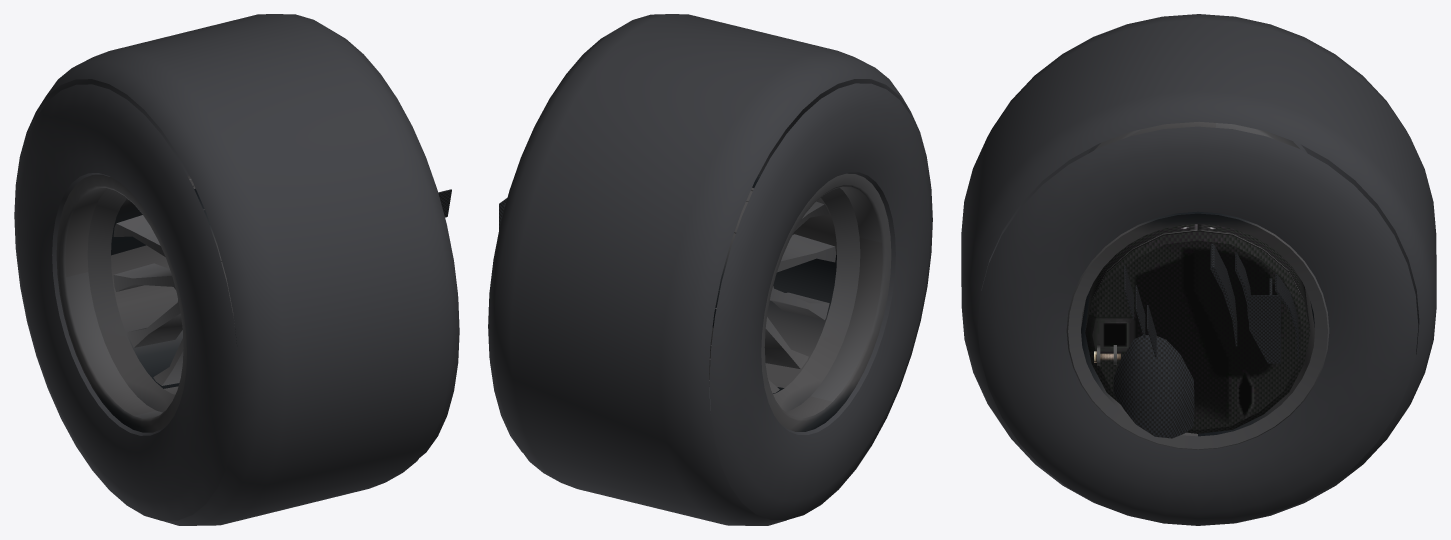
Rendered from back_left.obj.
3 views of the same model, side by side, from view 1: azimuth 30°, elevation 25°; view 2: azimuth 150°, elevation 25°; view 3: azimuth 270°, elevation 25° (orthographic). The views are drawn at different scales.
Visible parts, largest first — view 1: object__50_002-mesh, object__49_002-mesh, object__18_002-mesh; view 2: object__50_002-mesh, object__49_002-mesh, object__18_002-mesh; view 3: object__49_002-mesh, object__50_002-mesh, object__28_002-mesh, object__18_002-mesh.
Boxes of the visible parts, x1,y1,x2,y2 form: object__50_002-mesh: [14, 14, 458, 525]; object__49_002-mesh: [15, 84, 459, 520]; object__18_002-mesh: [56, 174, 236, 432]; object__50_002-mesh: [488, 14, 930, 525]; object__49_002-mesh: [490, 83, 932, 520]; object__18_002-mesh: [709, 173, 891, 431]; object__49_002-mesh: [977, 126, 1418, 525]; object__50_002-mesh: [961, 14, 1436, 525]; object__28_002-mesh: [1085, 224, 1310, 438]; object__18_002-mesh: [1066, 121, 1329, 449].
Bounding box in the file's own units: 4.53 × 6.4 × 6.41.
Materials: 4 (4 with a texture image).
